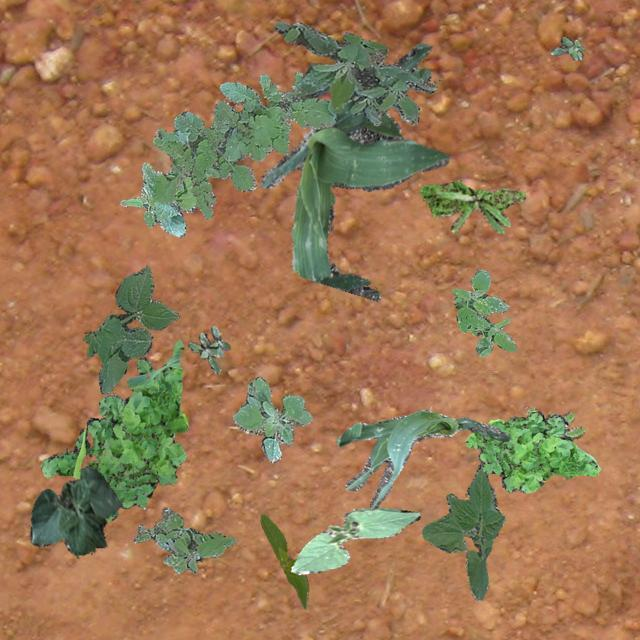crop: (260, 42, 448, 300), (335, 408, 509, 508), (420, 462, 504, 600), (290, 506, 418, 574), (30, 464, 120, 554), (120, 162, 196, 236), (258, 514, 308, 608)
weed: (150, 70, 334, 218), (39, 338, 188, 520), (272, 20, 436, 124), (82, 266, 178, 394), (464, 409, 600, 492), (232, 376, 310, 462), (133, 507, 235, 572), (418, 178, 524, 232), (452, 268, 516, 356), (187, 326, 230, 372), (526, 406, 584, 438), (550, 36, 584, 60)
